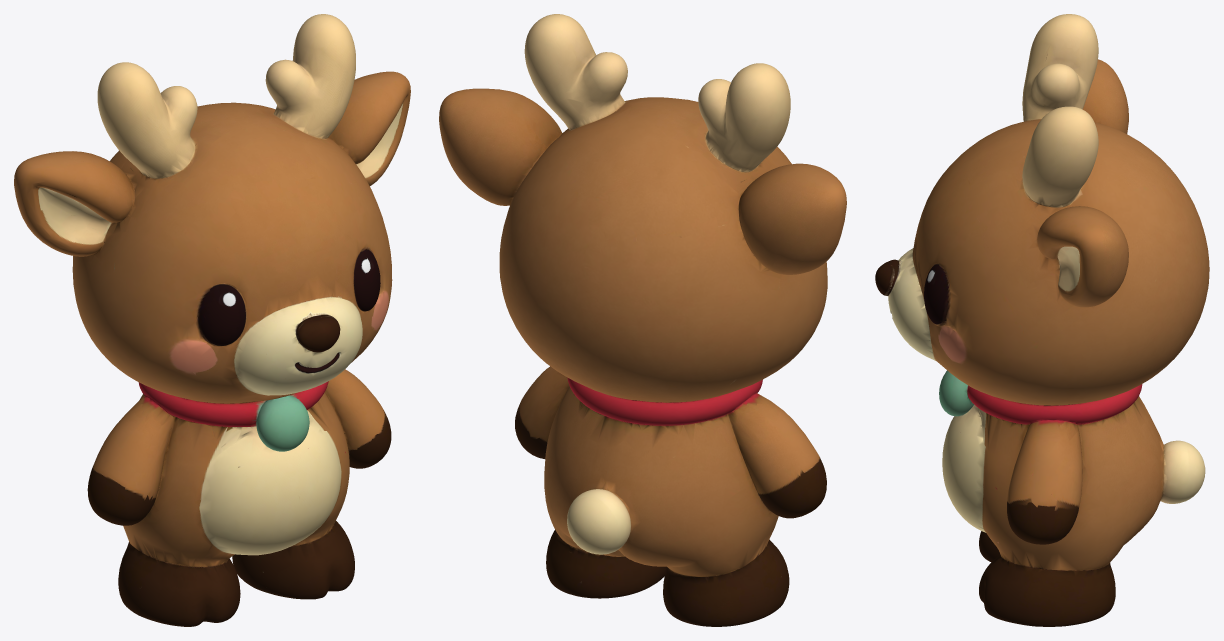
The model's file is Reiny.fbx.
3 views of the same model, side by side, from view 1: azimuth 30°, elevation 25°; view 2: azimuth 150°, elevation 25°; view 3: azimuth 270°, elevation 25° (orthographic). The views are drawn at different scales.
Parts seen in each view (by area): view 1: Mesh_0; view 2: Mesh_0; view 3: Mesh_0.
Boxes of the visible parts, x1,y1,x2,y2 form: Mesh_0: (14, 14, 410, 626); Mesh_0: (439, 14, 846, 626); Mesh_0: (875, 14, 1209, 626).
Size of the model in its own units: 148 by 194 by 114.
Materials: 1 (1 with a texture image).
